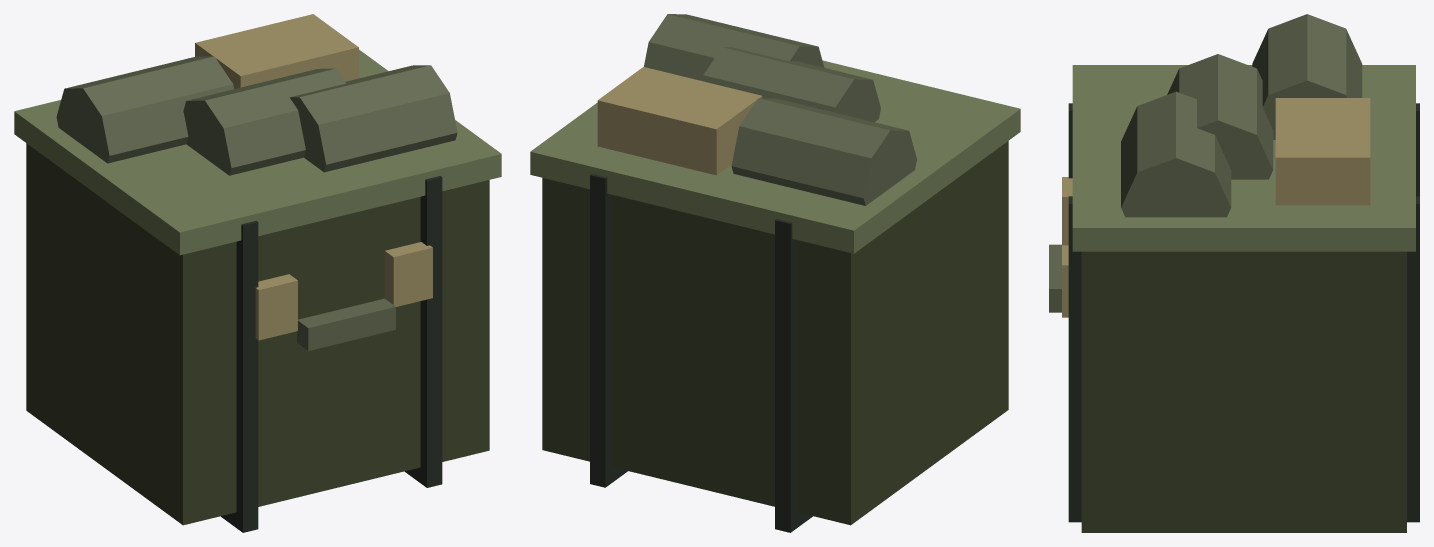
File: pickup_salvage.obj
3 renders of one model, left to right at view 1: azimuth 30°, elevation 25°; view 2: azimuth 150°, elevation 25°; view 3: azimuth 270°, elevation 25°, orthographic. The views are drawn at different scales.
Visible parts, largest first — view 1: Body.001; view 2: Body.001; view 3: Body.001.
Part boxes in pixels (x1,y1,x2,y2): Body.001: [14, 14, 501, 532]; Body.001: [530, 14, 1020, 532]; Body.001: [1049, 14, 1419, 532].
Bounding box in the file's own units: 0.735 × 0.81 × 0.7075.
1 material, 1 textured.
